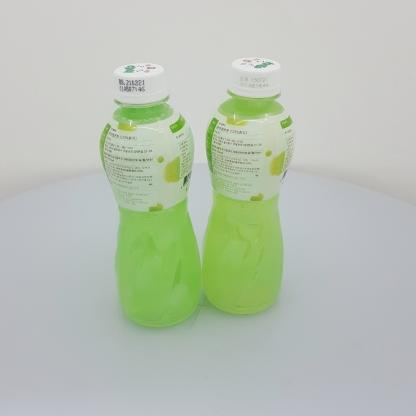-----------: (99, 63, 202, 327), (202, 57, 296, 314)
